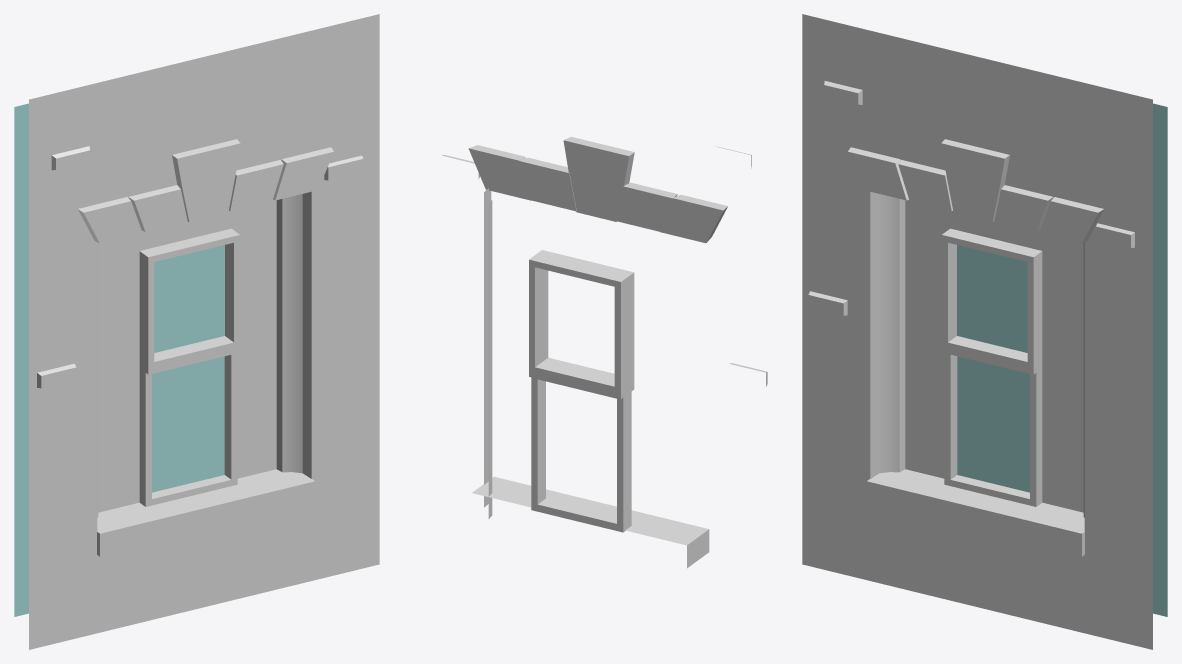
The model's file is Brick_Window_Trim_Single.gltf.
3 renders of one model, left to right at view 1: azimuth 30°, elevation 25°; view 2: azimuth 150°, elevation 25°; view 3: azimuth 330°, elevation 25°, orthographic.
Visible parts, largest first — view 1: Brick_Window_Trim_Single; view 2: Brick_Window_Trim_Single; view 3: Brick_Window_Trim_Single.
Boxes of the visible parts, bbox=[...] form: Brick_Window_Trim_Single: bbox=[14, 14, 379, 649]; Brick_Window_Trim_Single: bbox=[441, 136, 767, 568]; Brick_Window_Trim_Single: bbox=[802, 14, 1167, 649].
Bounding box in the file's own units: 2 × 3 × 0.2769.
